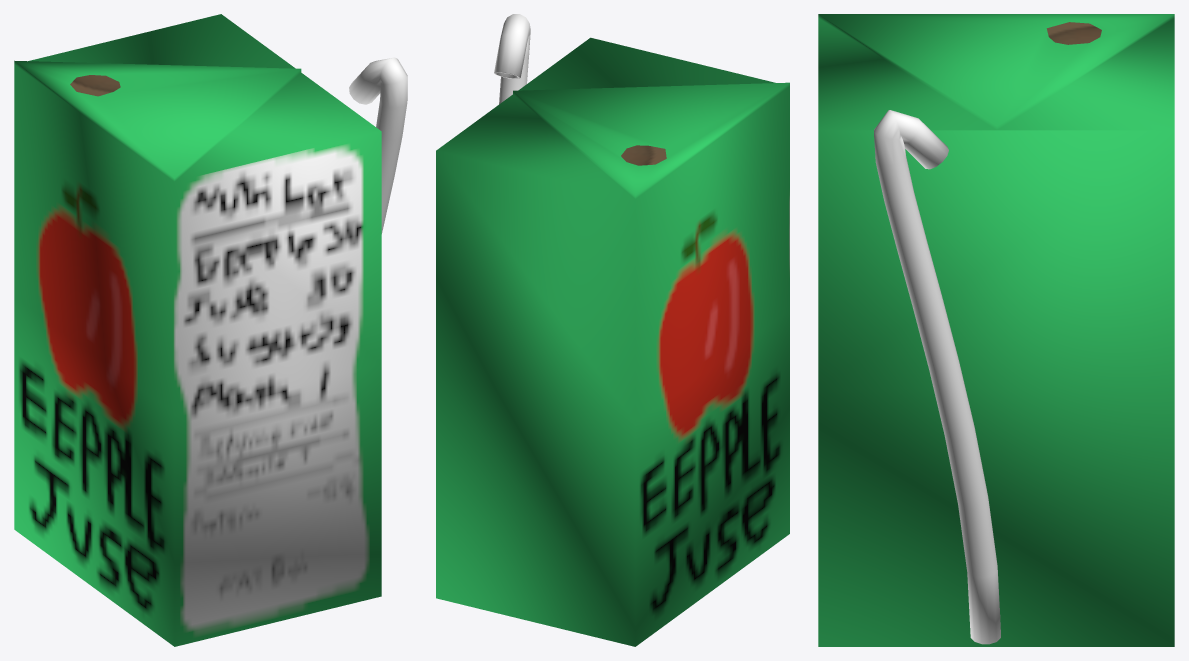
File: item-eepple-juse.glb
3 views of the same model, side by side, from view 1: azimuth 30°, elevation 25°; view 2: azimuth 150°, elevation 25°; view 3: azimuth 270°, elevation 25° (orthographic). The views are drawn at different scales.
Bounding box in the file's own units: 0.0768 × 0.14 × 0.0808.
Materials: 3 (2 with a texture image).
